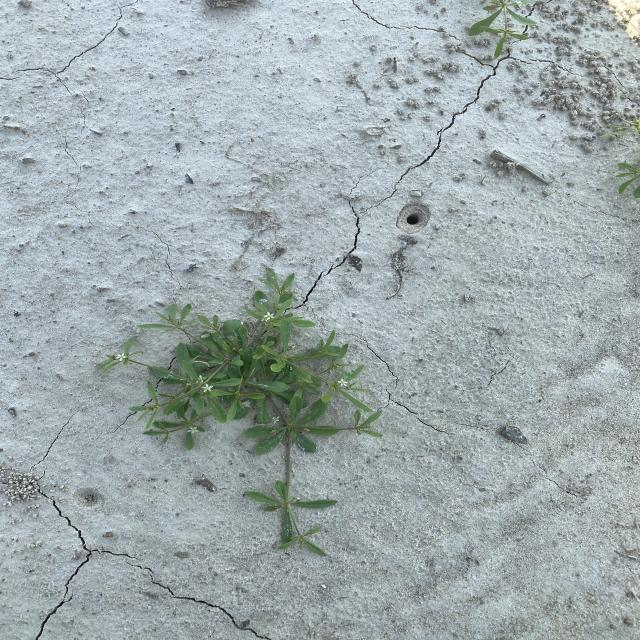Carpetweed: (91, 265, 385, 557), (463, 1, 538, 59), (612, 158, 638, 200)
